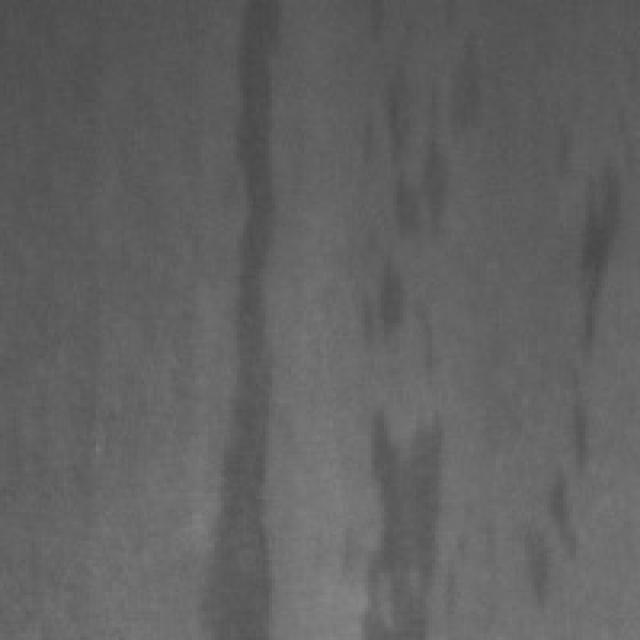inclusion: (188, 0, 310, 630), (508, 112, 618, 595), (336, 3, 486, 230), (355, 400, 442, 637), (352, 243, 432, 374)
